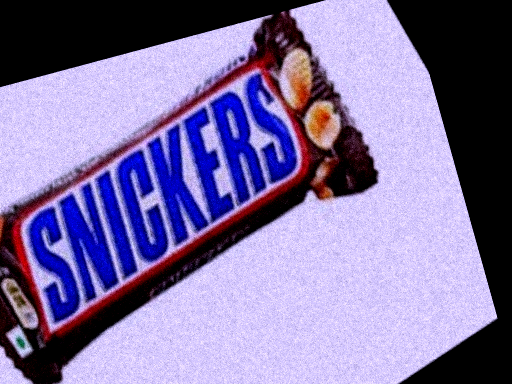vinyl_s: (1, 9, 381, 378)
